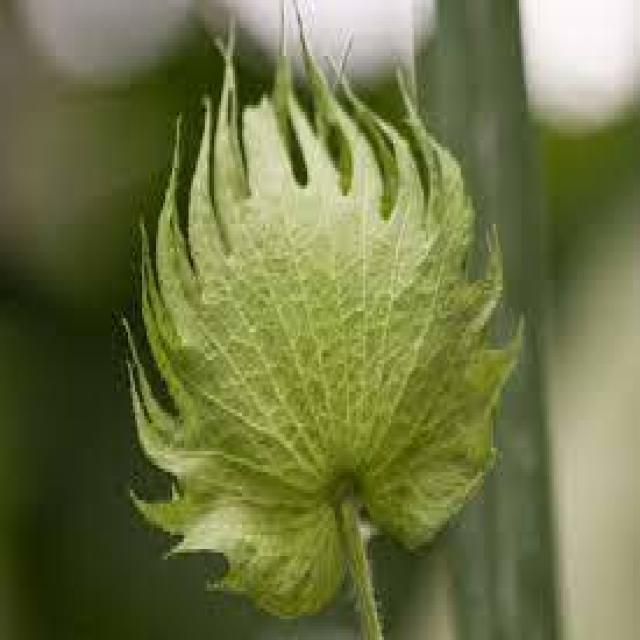Cotton Bud: (125, 58, 518, 596)
